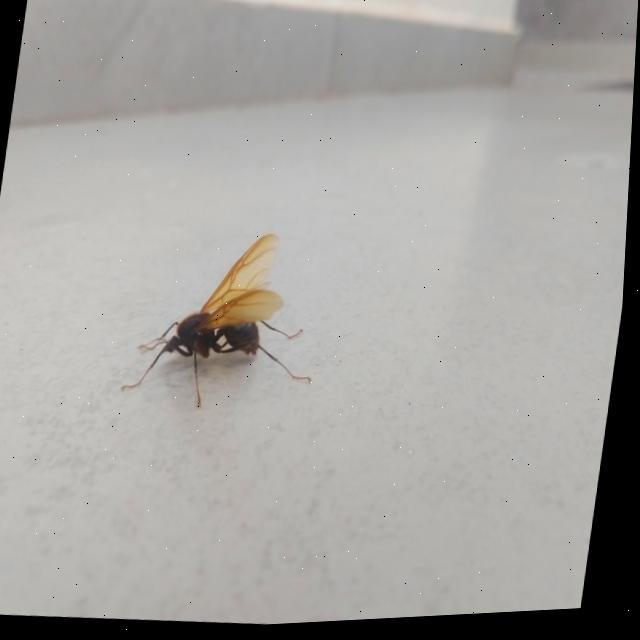Alive-Male-Alate: (123, 222, 333, 423)
